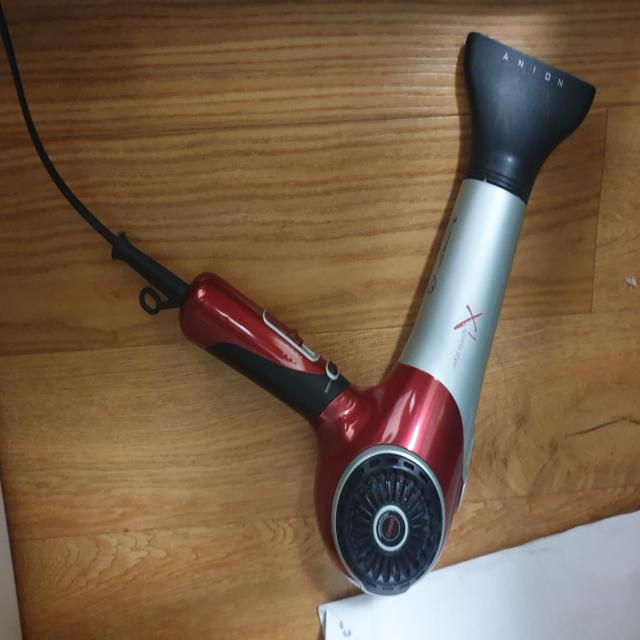dryer: (109, 30, 596, 599)
